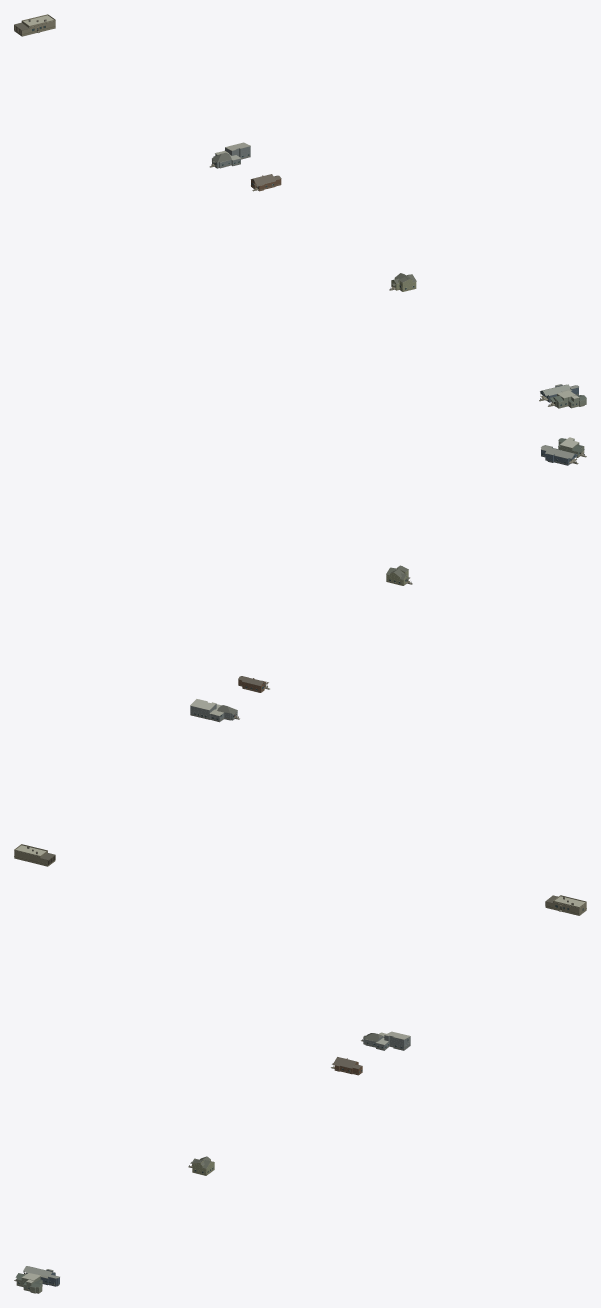
File: site.glb
The picture shows the model from 3 angles, top to bottom: view 1: azimuth 30°, elevation 25°; view 2: azimuth 150°, elevation 25°; view 3: azimuth 330°, elevation 25°; orthographic projection.
Visible parts, largest first — view 1: roof-d3e38b75, roof-efd78630; view 2: roof-d3e38b75, roof-efd78630; view 3: roof-d3e38b75, roof-efd78630.
Part boxes in pixels (<box>): roof-d3e38b75: <box>210,142,250,168</box>; roof-efd78630: <box>14,14,55,36</box>; roof-d3e38b75: <box>190,699,239,722</box>; roof-efd78630: <box>14,844,55,866</box>; roof-d3e38b75: <box>361,1031,410,1050</box>; roof-efd78630: <box>545,895,586,915</box>.
Size of the model in its own units: 35.46 by 18.52 by 738.
